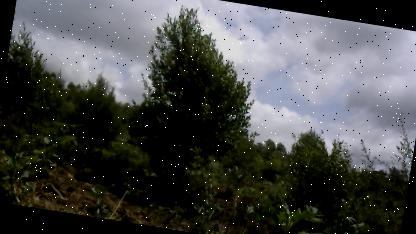tree: (108, 0, 272, 223)
